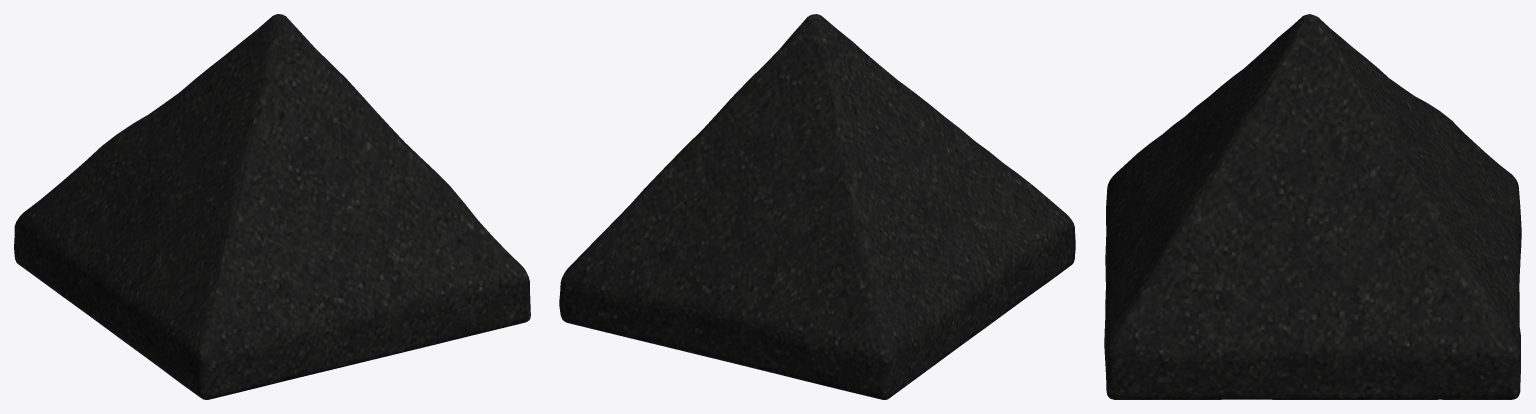
File: tak-capstone-black.glb
The picture shows the model from 3 angles, left to right: view 1: azimuth 30°, elevation 25°; view 2: azimuth 150°, elevation 25°; view 3: azimuth 270°, elevation 25°; orthographic projection. The views are drawn at different scales.
Parts seen in each view (by area): view 1: tak-capstone-black; view 2: tak-capstone-black; view 3: tak-capstone-black.
Boxes of the visible parts, bbox=[...] form: tak-capstone-black: bbox=[14, 14, 530, 399]; tak-capstone-black: bbox=[559, 14, 1075, 399]; tak-capstone-black: bbox=[1104, 14, 1521, 399].
Bounding box in the file's own units: 0.0284 × 0.0226 × 0.0283.
Materials: 1 (1 with a texture image).
